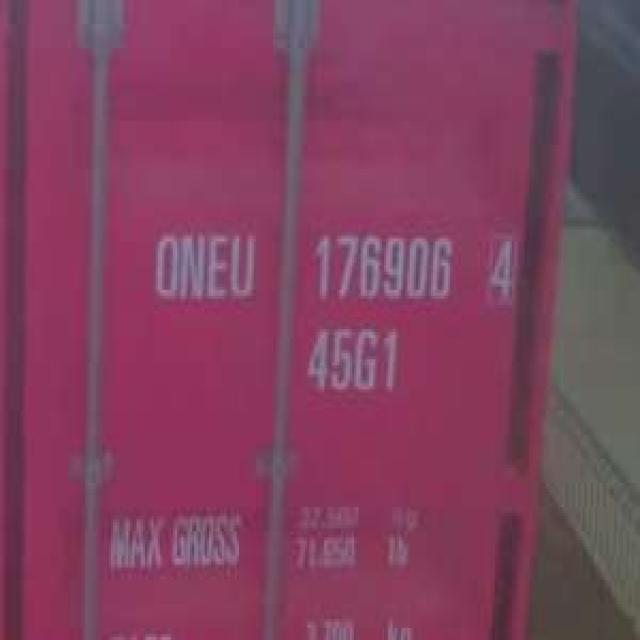dv: (482, 226, 519, 302)
owner: (143, 220, 260, 308)
serial: (309, 226, 456, 305)
size: (301, 320, 403, 398)
